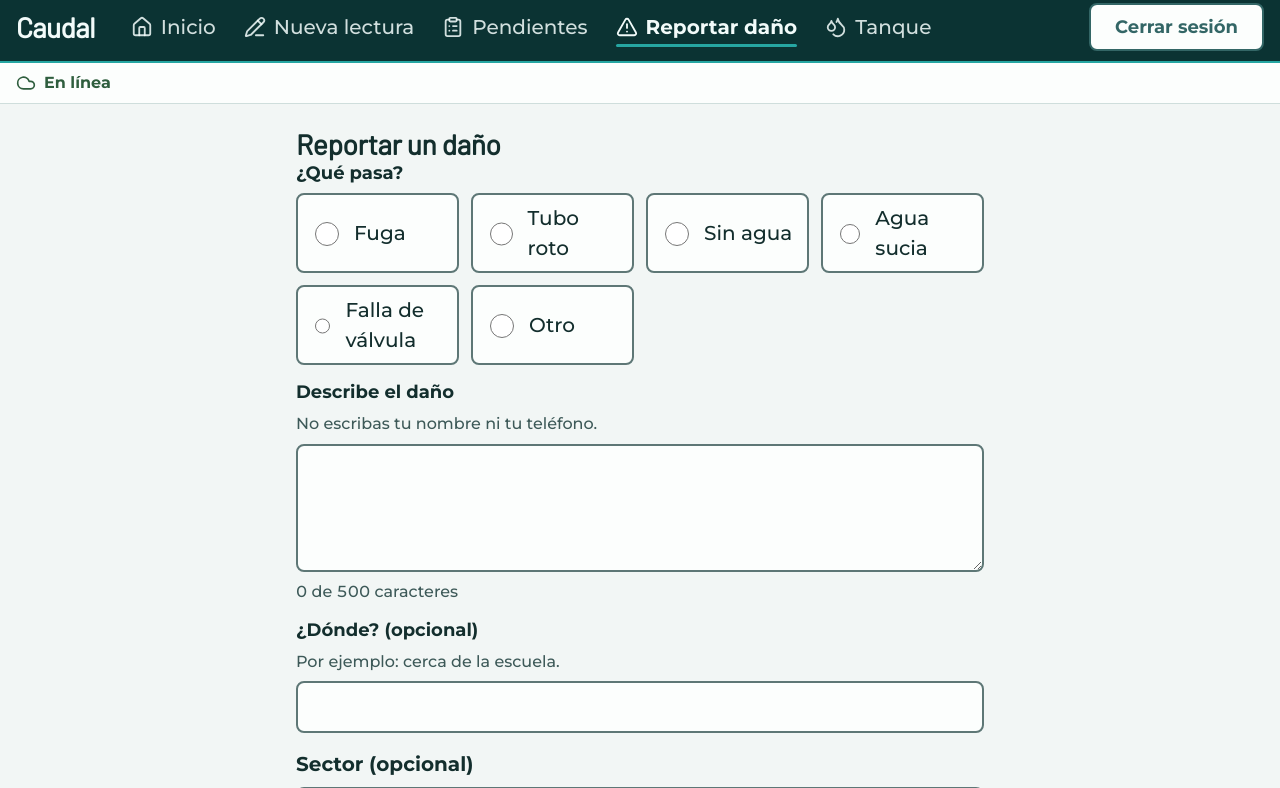
OperatorDamagePage (S11) › offers the categories and the sectors, with the send button off until the report is complete
The width and height of the screenshot is (1280, 788).
Expected: the heading "Reportar un daño" is shown, [296, 127, 500, 161]
Click the radio button labelled "Fuga" at (327, 234), box [315, 222, 339, 246]
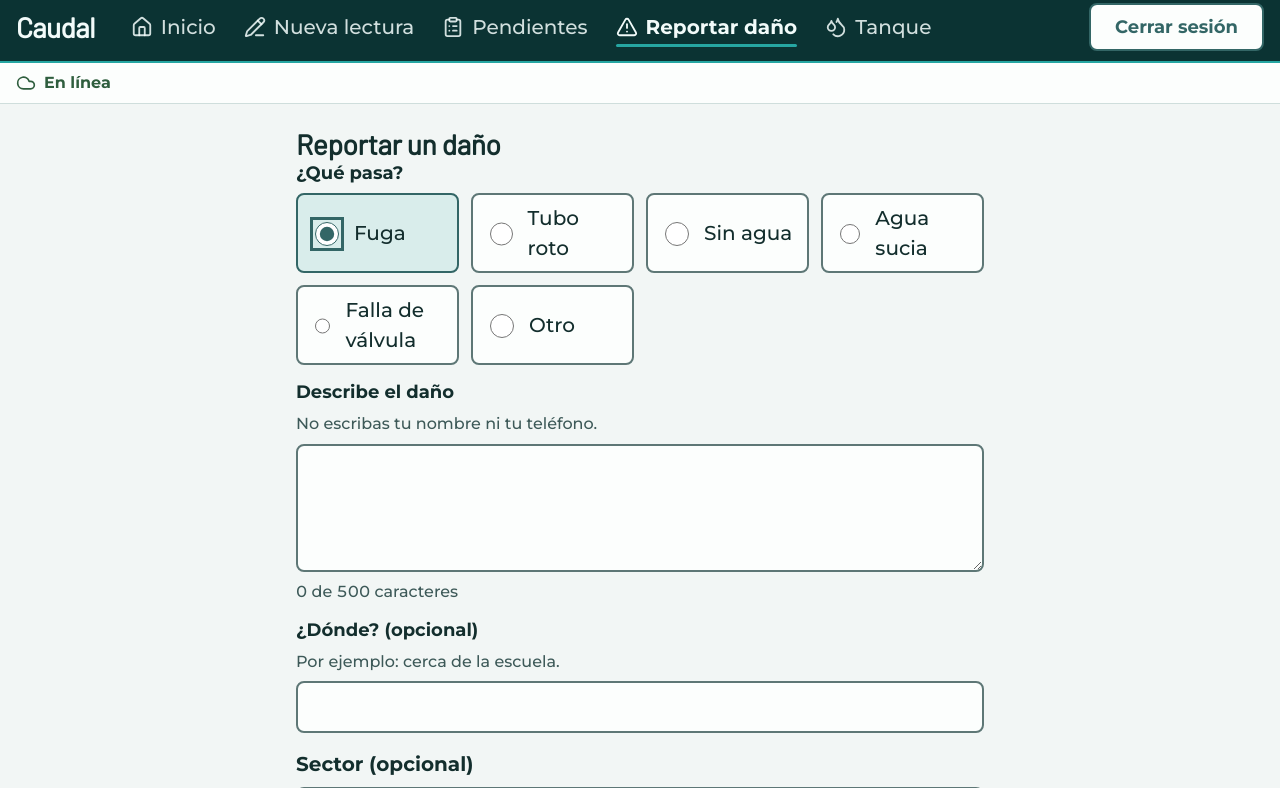
Type "Gotea el tubo junto a la escuela." into the text box labelled "Describe el daño" at (640, 508), box [296, 444, 984, 572]
(page scrolled)
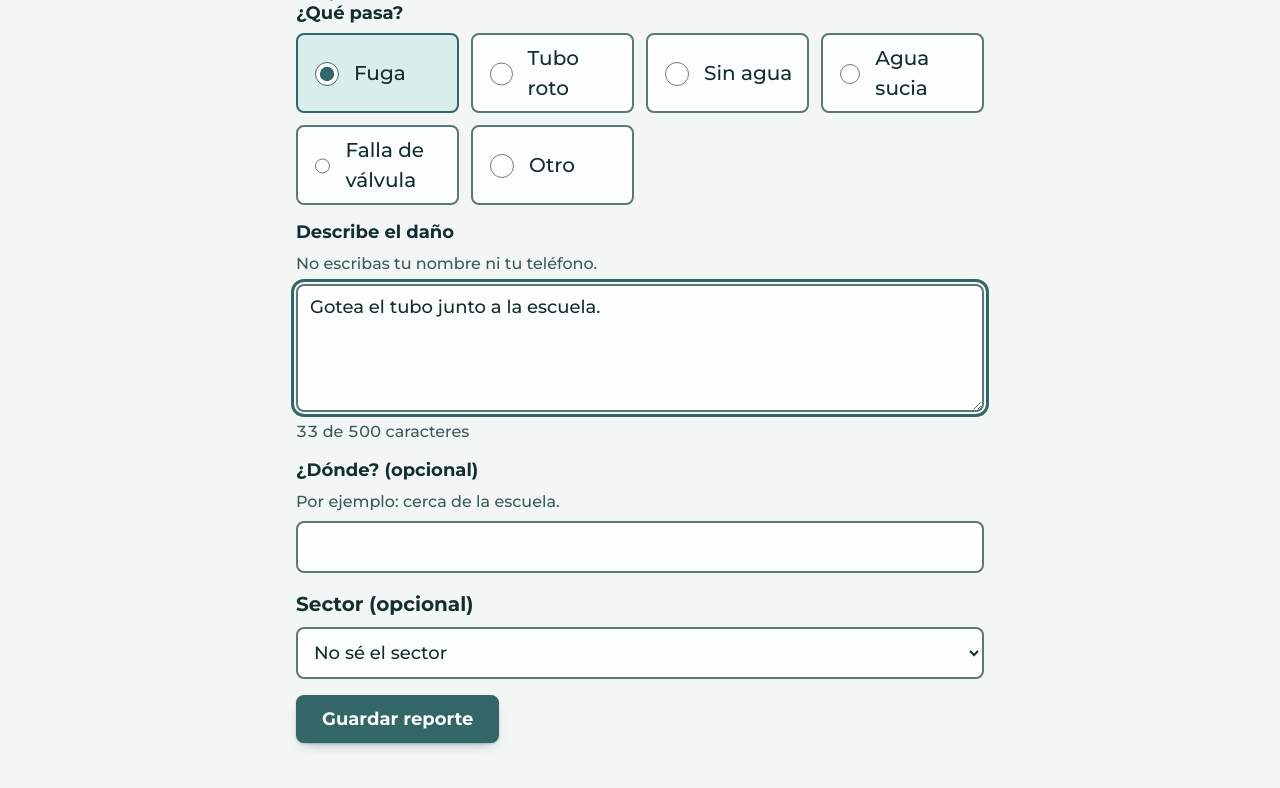
Result: the button "Guardar reporte" is enabled at [296, 695, 499, 743]
